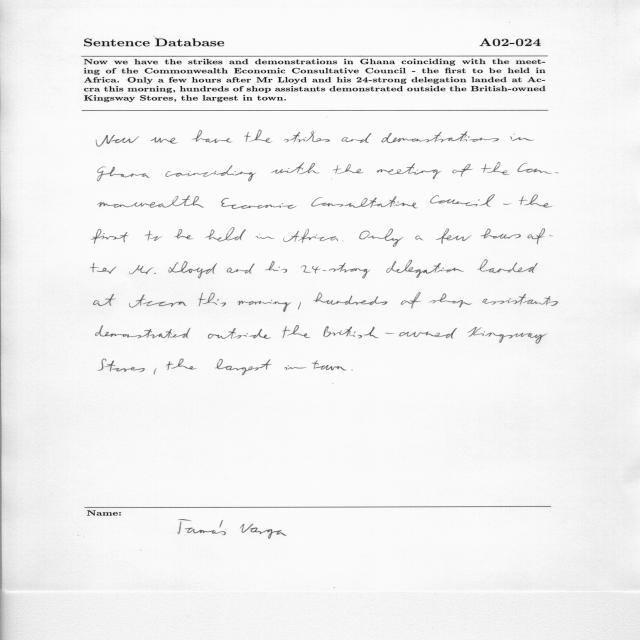word: (323, 326, 457, 339), (166, 166, 257, 182), (381, 131, 499, 143), (386, 260, 464, 278), (98, 195, 205, 208), (467, 327, 547, 344), (311, 197, 418, 209), (95, 326, 191, 339), (376, 163, 441, 179), (301, 263, 370, 278), (482, 294, 558, 306), (215, 359, 272, 375), (314, 293, 388, 305), (168, 261, 217, 279), (430, 194, 495, 207), (221, 198, 297, 209), (359, 229, 404, 247), (477, 260, 538, 273), (98, 167, 150, 182), (283, 229, 338, 243), (129, 295, 187, 308), (208, 328, 271, 339), (237, 300, 291, 312), (429, 293, 472, 308), (98, 359, 145, 372), (205, 228, 246, 242), (91, 229, 129, 244), (436, 229, 472, 244), (271, 163, 320, 174), (192, 130, 233, 143), (283, 132, 330, 143), (96, 135, 139, 147), (331, 164, 364, 179), (517, 163, 559, 174), (527, 228, 553, 245), (519, 195, 552, 208), (480, 229, 521, 239), (198, 293, 226, 307), (245, 130, 273, 143), (481, 162, 509, 175), (282, 326, 310, 339), (312, 361, 347, 371), (166, 359, 197, 370), (401, 293, 421, 309), (342, 133, 372, 143), (90, 263, 117, 274), (227, 264, 255, 274), (453, 164, 474, 177), (265, 261, 287, 273), (94, 294, 116, 306), (129, 265, 156, 274), (174, 229, 194, 239), (151, 137, 178, 144), (145, 230, 162, 241), (510, 134, 534, 141), (284, 365, 307, 370), (255, 234, 275, 239), (415, 236, 424, 241), (298, 302, 301, 309), (154, 369, 157, 375), (503, 203, 511, 205), (351, 370, 353, 371), (342, 241, 343, 241)
